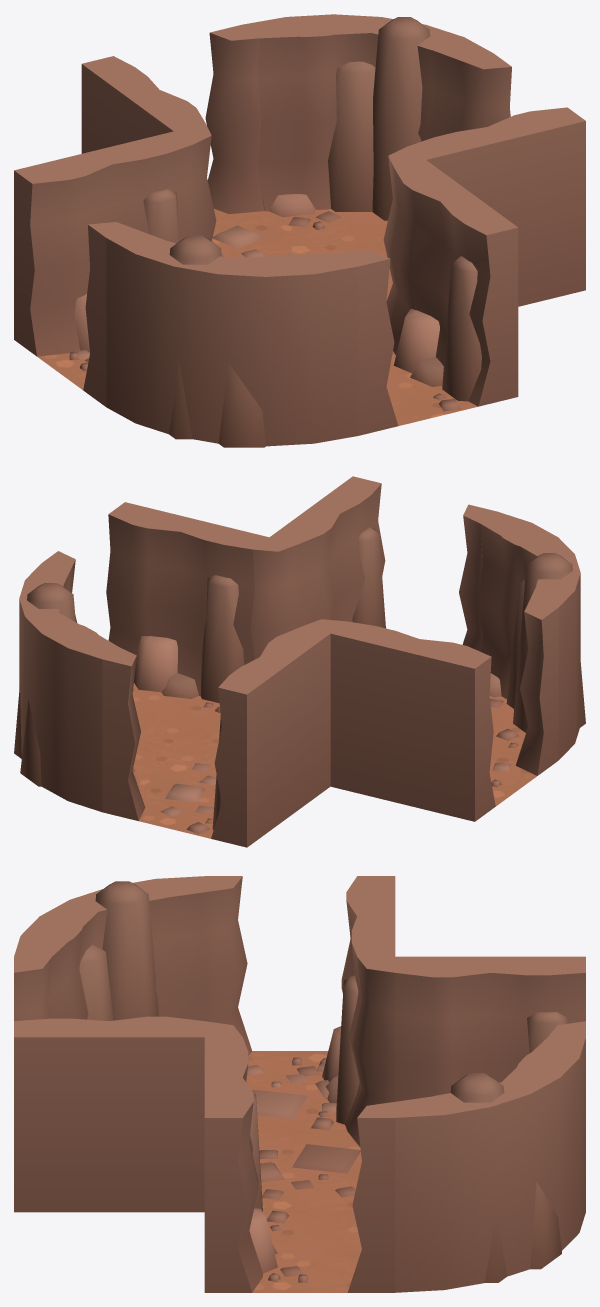
Rendered from room-small-variation.obj.
The picture shows the model from 3 angles, top to bottom: view 1: azimuth 30°, elevation 25°; view 2: azimuth 150°, elevation 25°; view 3: azimuth 270°, elevation 25°; orthographic projection. The views are drawn at different scales.
Parts seen in each view (by area): view 1: room-small-variation; view 2: room-small-variation; view 3: room-small-variation.
Boxes of the visible parts, x1,y1,x2,y2 form: room-small-variation: [14, 14, 585, 447]; room-small-variation: [14, 476, 585, 847]; room-small-variation: [14, 876, 585, 1292].
Bounding box in the file's own units: 12 × 4.4 × 12.
Materials: 1 (1 with a texture image).
